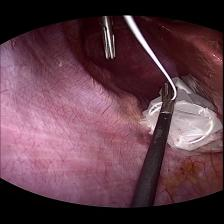Specimen Bag: (145, 100, 224, 150)
